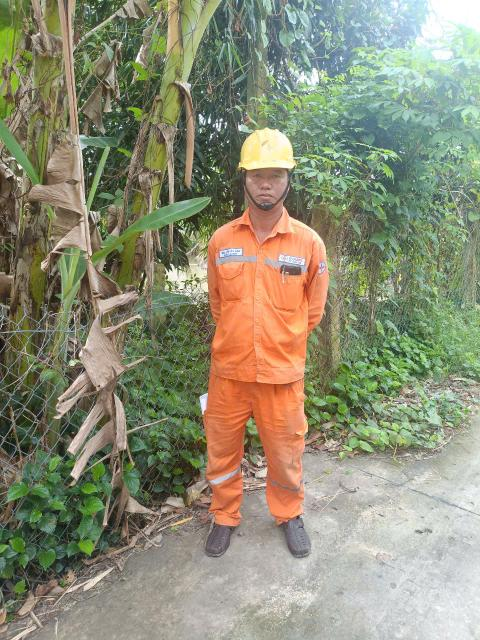helmet: (231, 123, 310, 182)
shoes: (265, 508, 317, 562), (198, 520, 227, 567)
